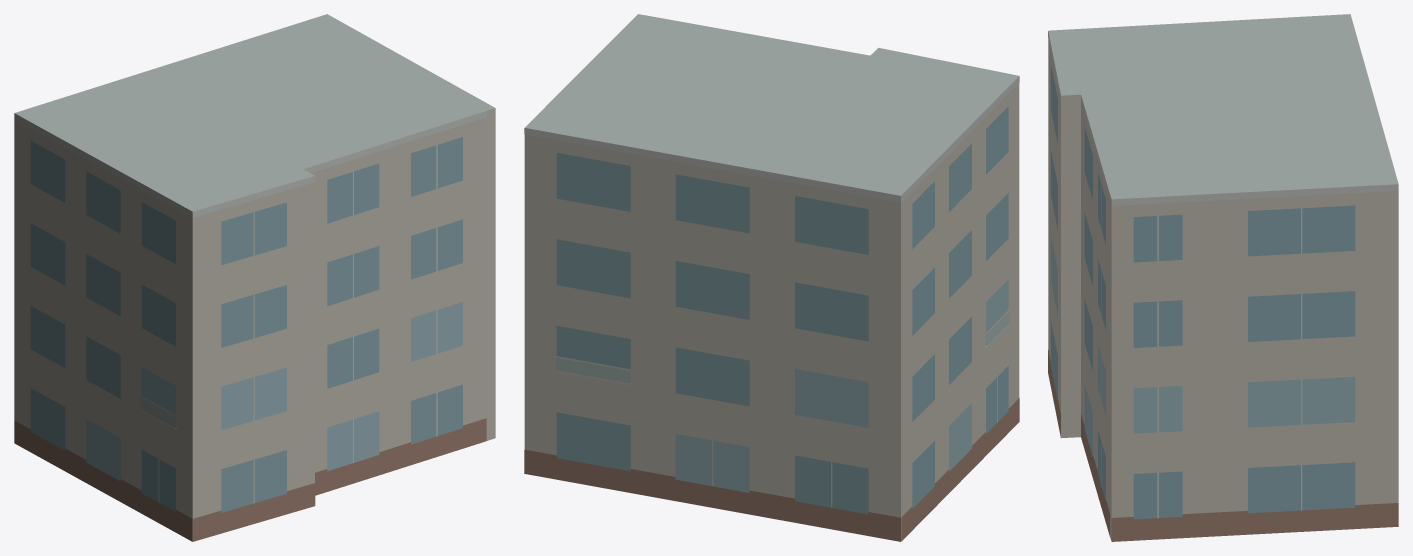
Rendered from survey-upis-32744956.glb.
The picture shows the model from 3 angles, left to right: view 1: azimuth 30°, elevation 25°; view 2: azimuth 150°, elevation 25°; view 3: azimuth 270°, elevation 25°; orthographic projection. The views are drawn at different scales.
Parts seen in each view (by area): view 1: survey-upis-32744956.tmp; view 2: survey-upis-32744956.tmp; view 3: survey-upis-32744956.tmp.
Boxes of the visible parts, box(x1,y1,x2,y2) form: survey-upis-32744956.tmp: box(14, 14, 495, 541); survey-upis-32744956.tmp: box(524, 14, 1019, 541); survey-upis-32744956.tmp: box(1048, 14, 1398, 541).
Bounding box in the file's own units: 14.75 × 12.7 × 11.79.
